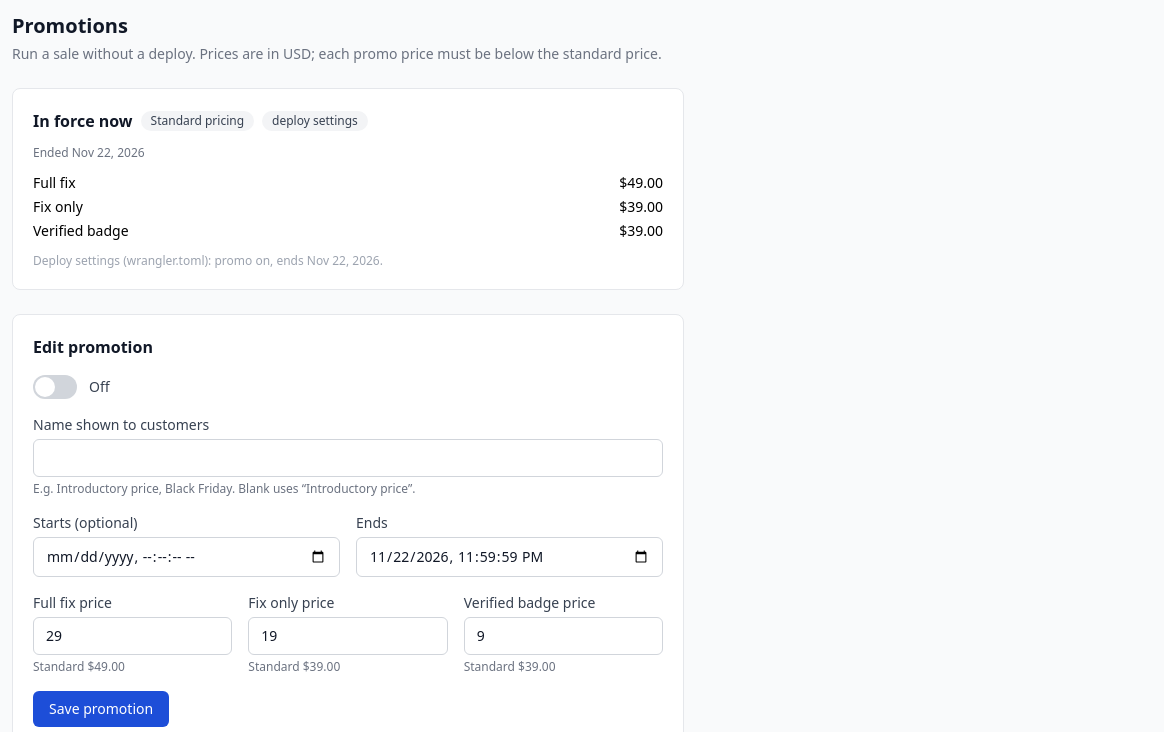
Scenario: AdminPromo › reads "29,50" and "$29" as money, and refuses junk before sending anything
Expected: the text "Standard pricing" is shown, [141,111,254,131]
Replace the text in the field labelled "Full fix price" with "29,50": [133, 636] box [33,617,232,655]
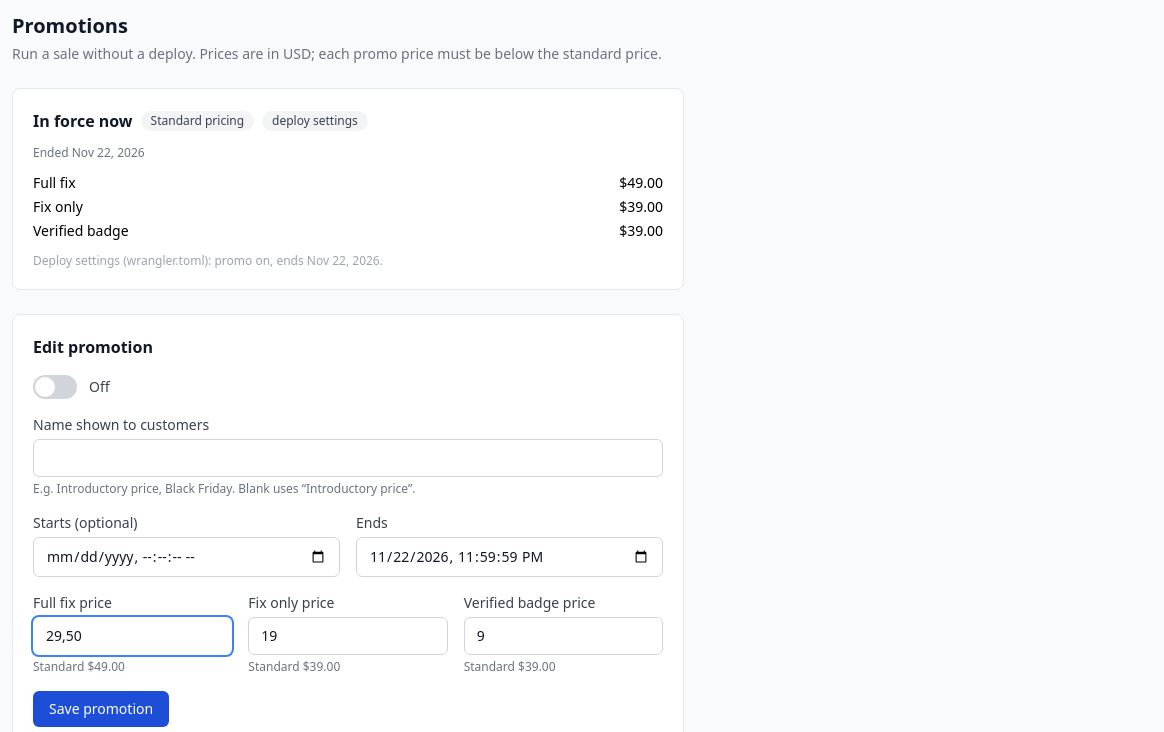
Replace the text in the field labelled "Verified badge price" with "$9": [563, 636] box [464,617,663,655]
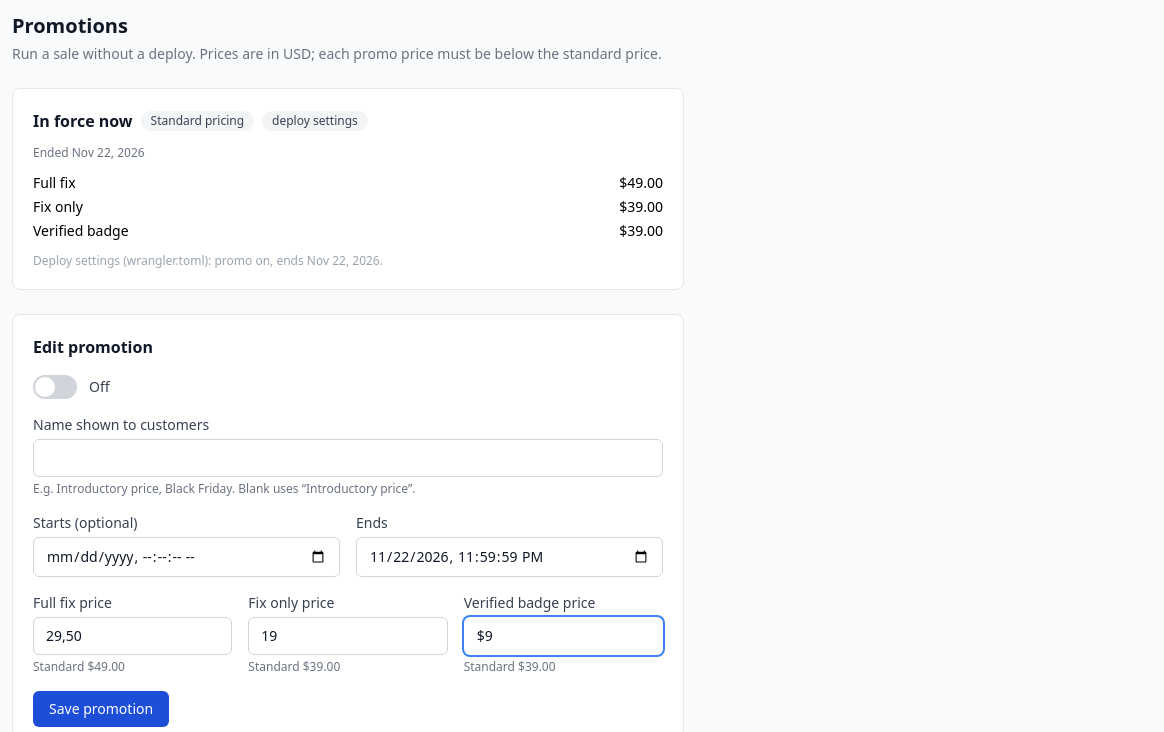
Click the button "Save promotion": [101, 709] box [33,691,169,727]
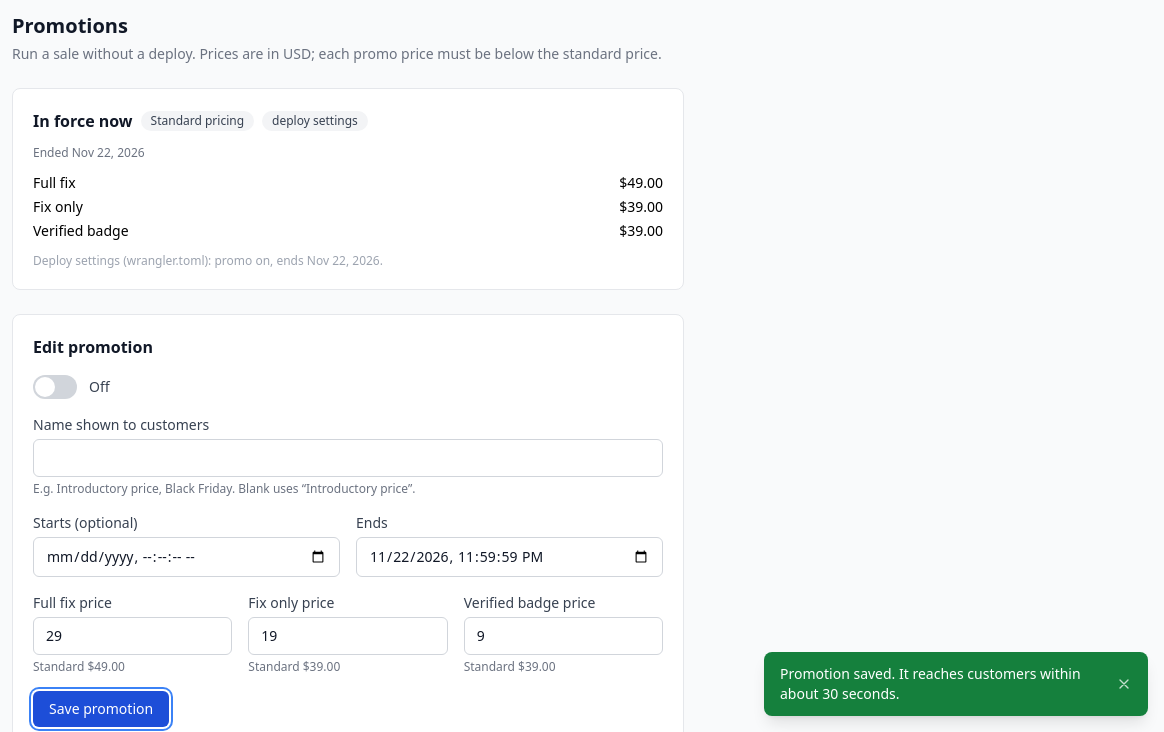
Replace the text in the field labelled "Full fix price" with "abc": [133, 636] box [33,617,232,655]
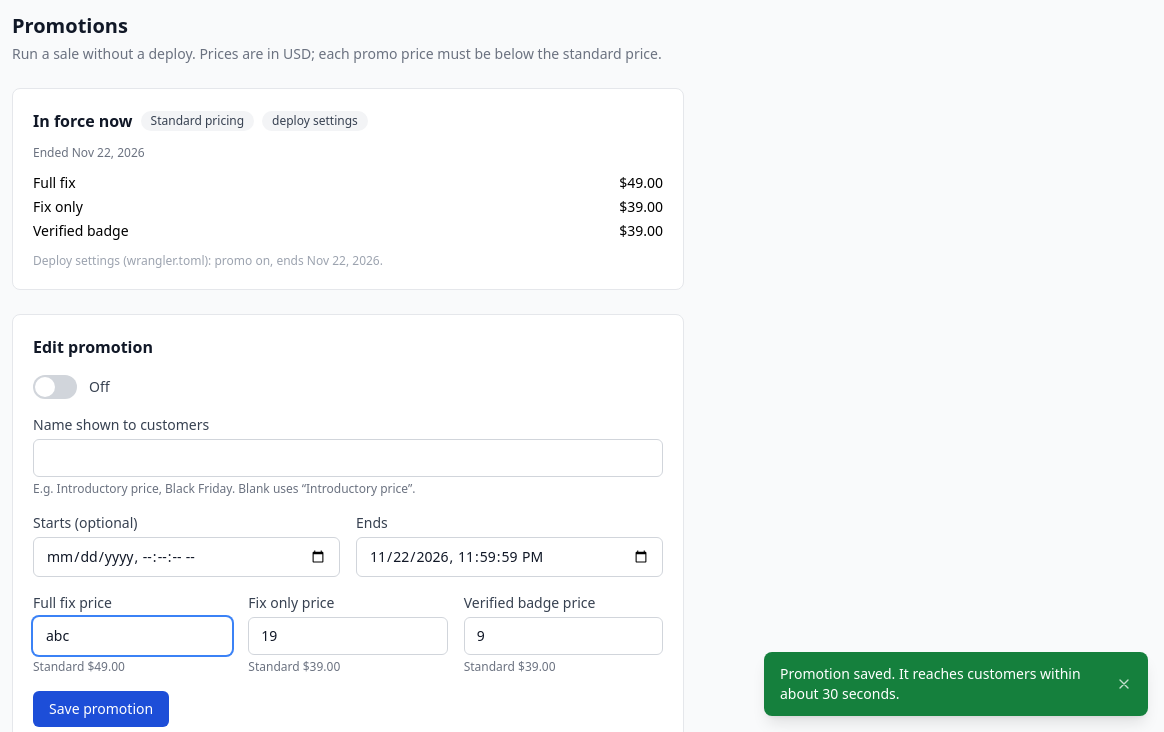
Click the button "Save promotion": [101, 709] box [33,691,169,727]
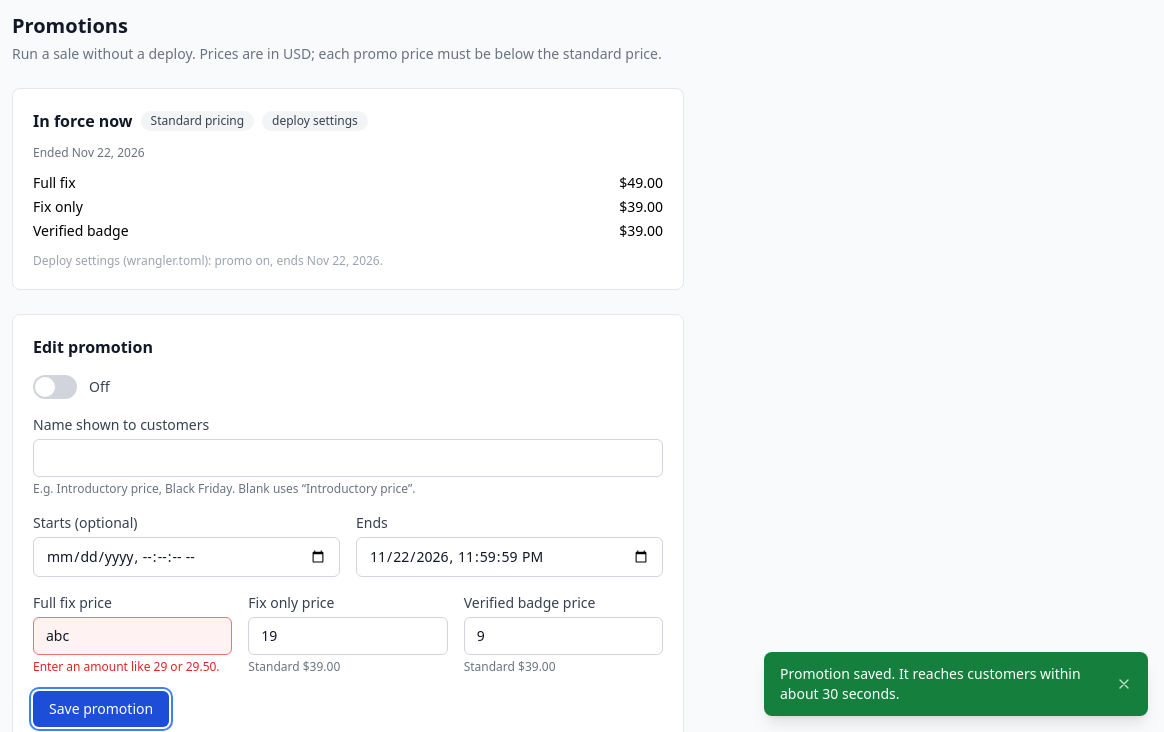
Expected: the text "Enter an amount like 29 or 29.50." is shown, [33,659,232,675]
